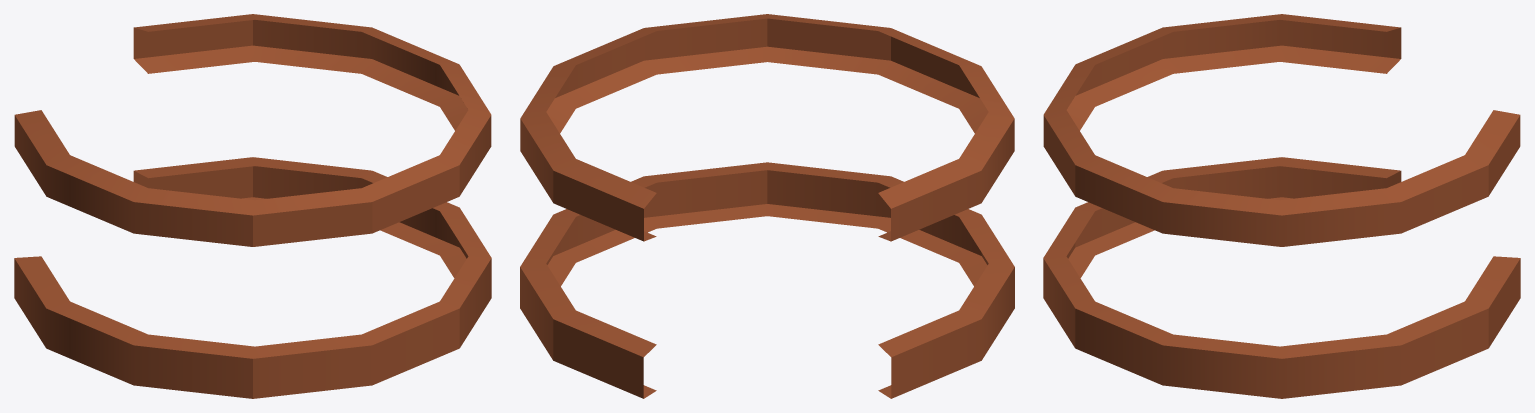
Rendered from TroncoSaliente.fbx.
3 renders of one model, left to right at view 1: azimuth 30°, elevation 25°; view 2: azimuth 150°, elevation 25°; view 3: azimuth 270°, elevation 25°, orthographic. The views are drawn at different scales.
Visible parts, largest first — view 1: TroncoSaliente; view 2: TroncoSaliente; view 3: TroncoSaliente.
Part boxes in pixels (left/top/right/bottom): TroncoSaliente: left=14, top=14, right=491, bottom=398; TroncoSaliente: left=520, top=14, right=1014, bottom=398; TroncoSaliente: left=1043, top=14, right=1520, bottom=398.
Bounding box in the file's own units: 265 × 117 × 265.
